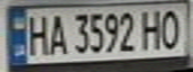2: (118, 8, 139, 53)
3: (69, 10, 90, 55)
5: (87, 10, 106, 54)
9: (103, 9, 121, 53)
A: (45, 10, 69, 56)
H: (24, 10, 51, 56), (139, 7, 166, 51)
O: (157, 6, 184, 49)
